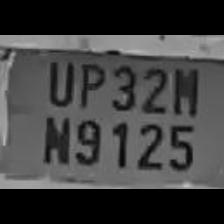1: (104, 113, 132, 172)
2: (136, 53, 168, 113), (131, 117, 163, 172)
3: (105, 52, 137, 111)
5: (164, 119, 196, 172)
9: (70, 112, 102, 166)
M: (167, 56, 199, 116)
N: (38, 110, 70, 164)
P: (74, 52, 104, 108)
U: (42, 51, 74, 108)
